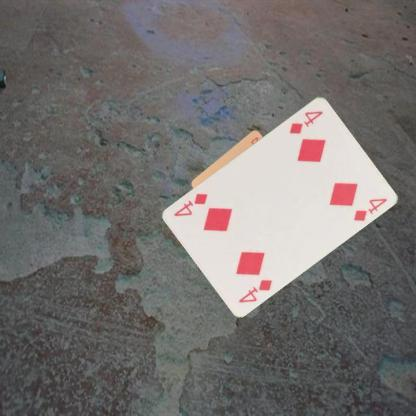4d: (236, 274, 274, 304), (287, 108, 324, 135)
